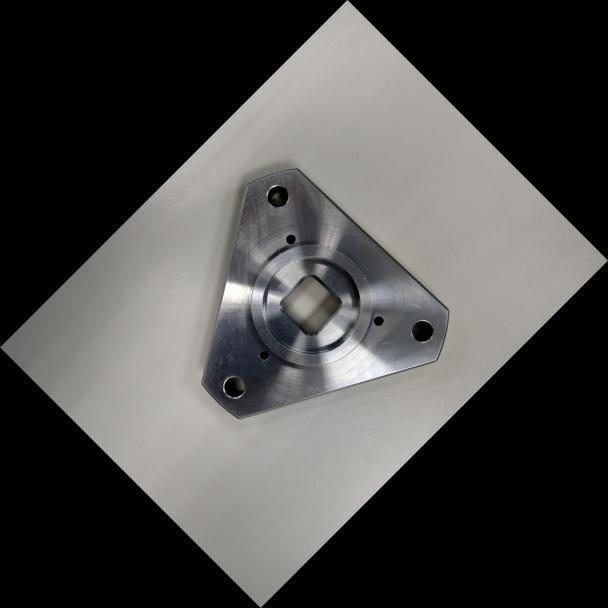hole: (403, 311, 442, 350), (214, 366, 253, 405), (259, 177, 297, 215), (279, 228, 301, 250), (254, 344, 274, 365), (369, 311, 389, 331)
